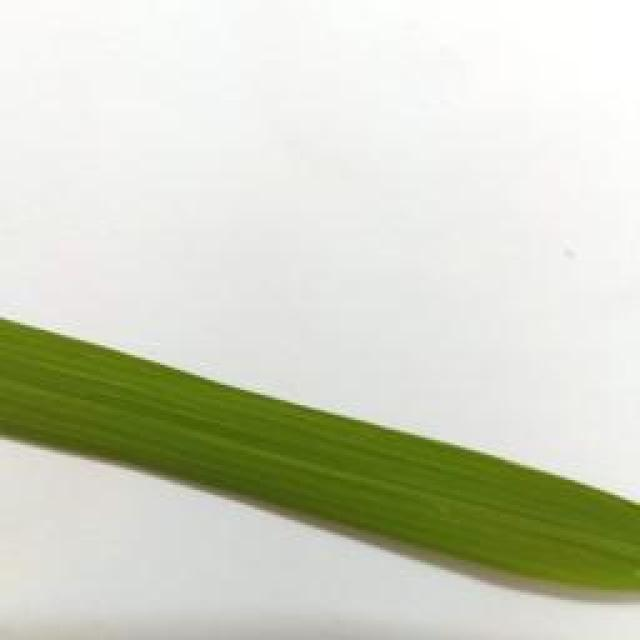Healthy-Plant: (0, 310, 630, 608)
